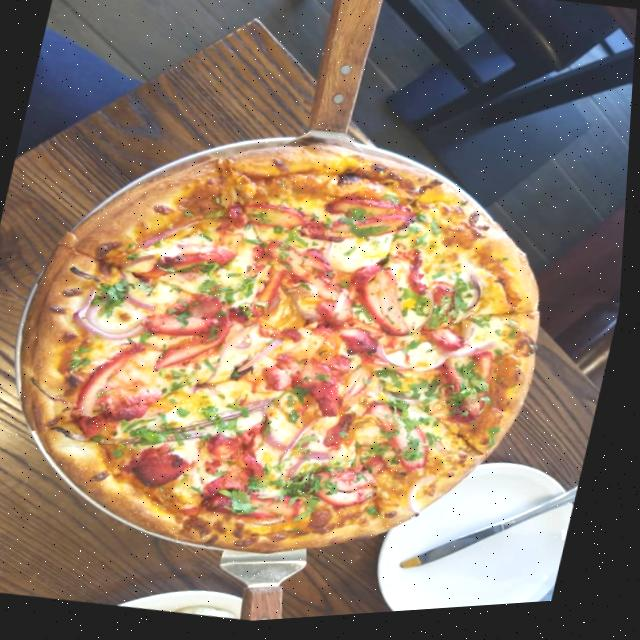basil: (304, 471, 368, 517), (432, 277, 488, 326), (330, 212, 398, 252), (451, 364, 498, 419), (93, 275, 134, 322), (215, 272, 261, 313), (405, 409, 447, 449), (406, 217, 440, 262), (408, 293, 439, 340), (403, 380, 447, 411), (227, 490, 264, 521), (131, 425, 174, 451), (376, 370, 410, 400), (198, 270, 229, 300), (283, 230, 314, 255), (396, 291, 419, 318), (78, 345, 99, 374), (200, 405, 230, 425), (289, 479, 309, 501), (176, 313, 195, 333), (360, 455, 381, 471), (140, 332, 157, 347), (375, 449, 394, 461), (184, 210, 199, 225), (402, 461, 415, 476), (413, 431, 426, 444)
pizza: (0, 92, 584, 611)
